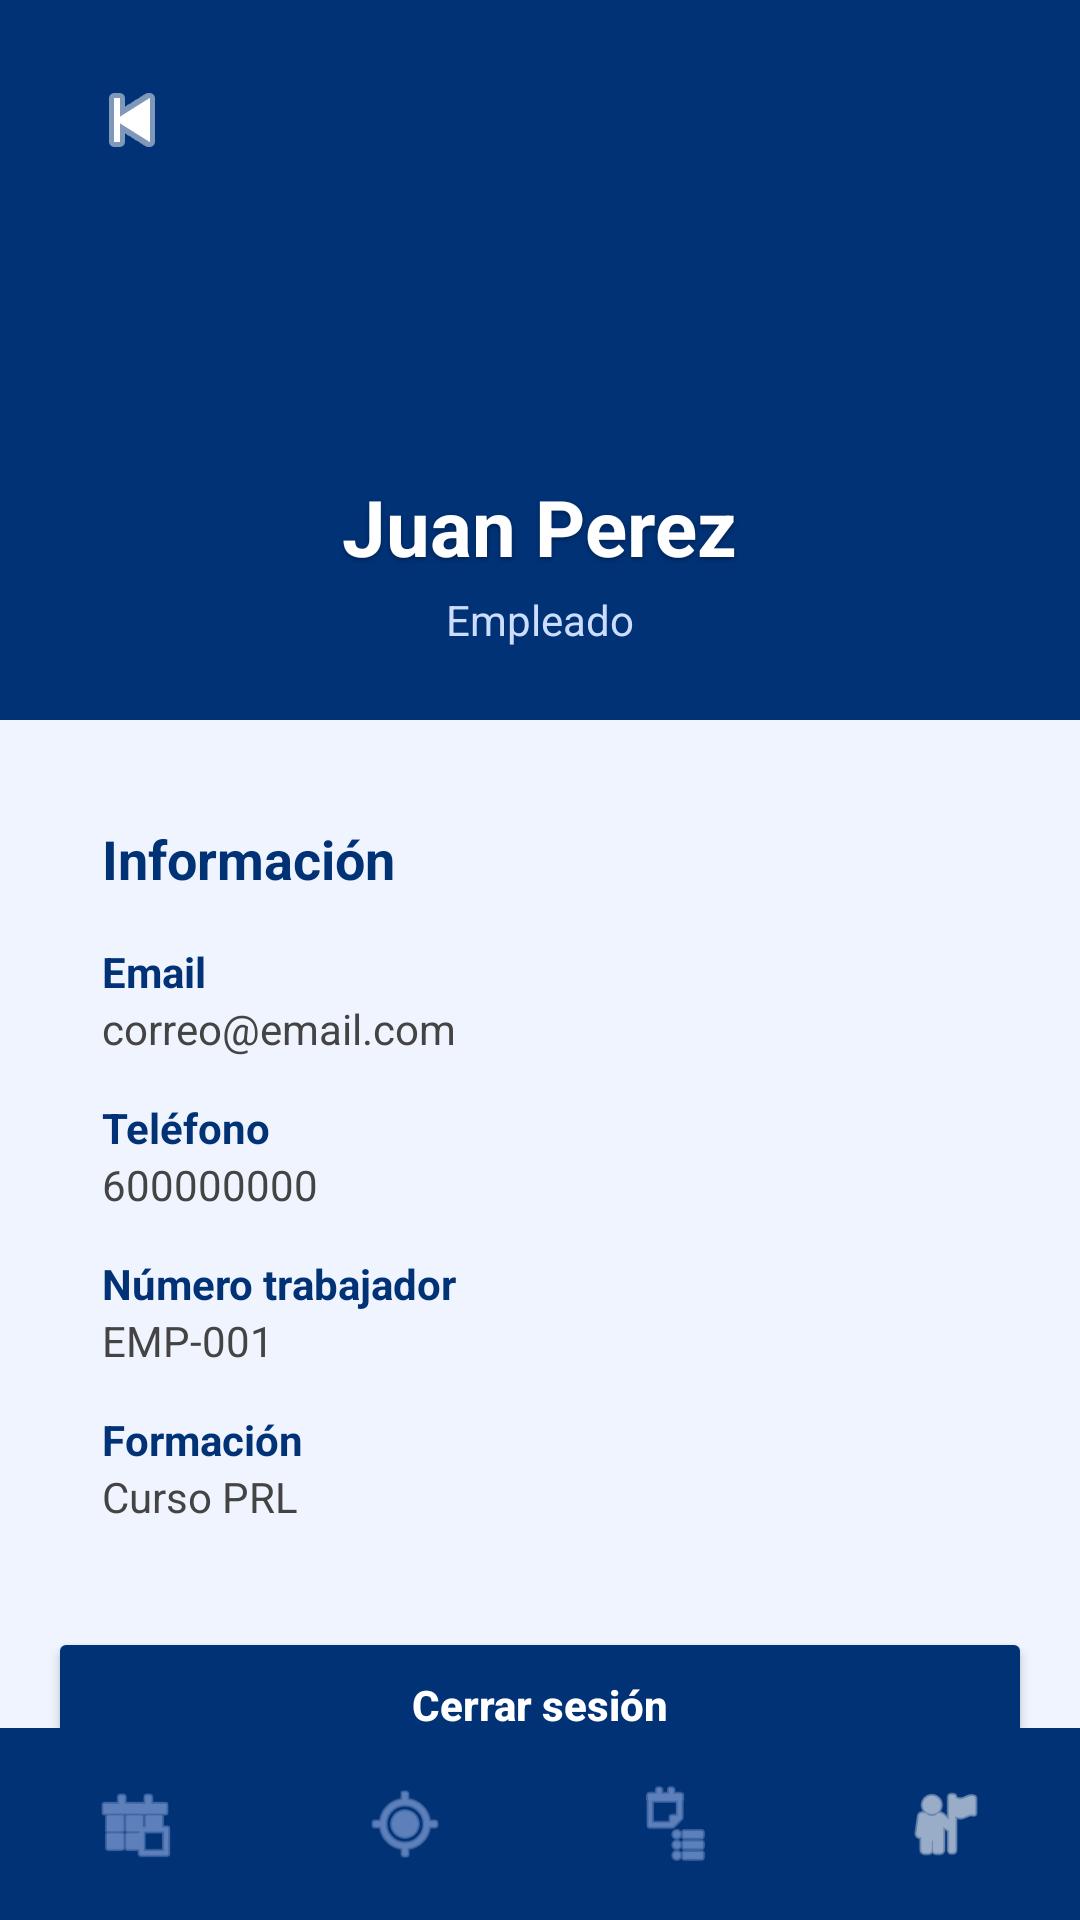

Screen size 1080px×1920px. Icon name, then its box in pixels as (x1, y1, x2, y2):
agenda: (646, 1786, 705, 1861)
mylocation: (372, 1790, 438, 1857)
previous: (109, 93, 155, 147)
today: (102, 1793, 170, 1857)
